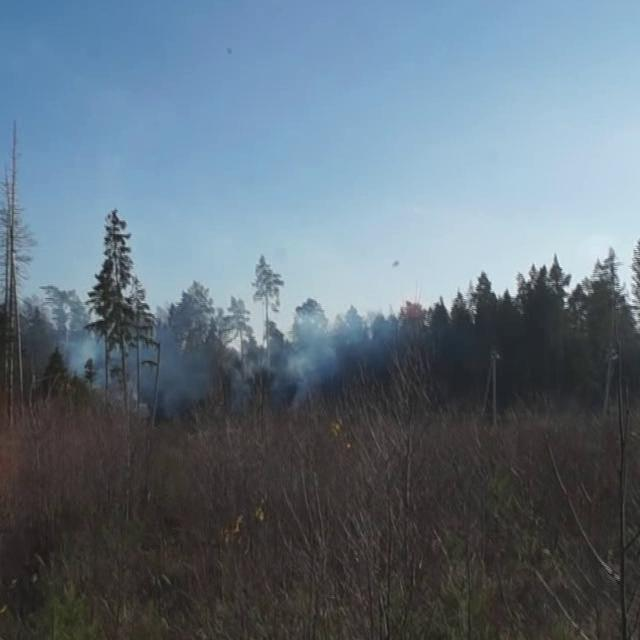Smoke: (51, 296, 412, 426)
